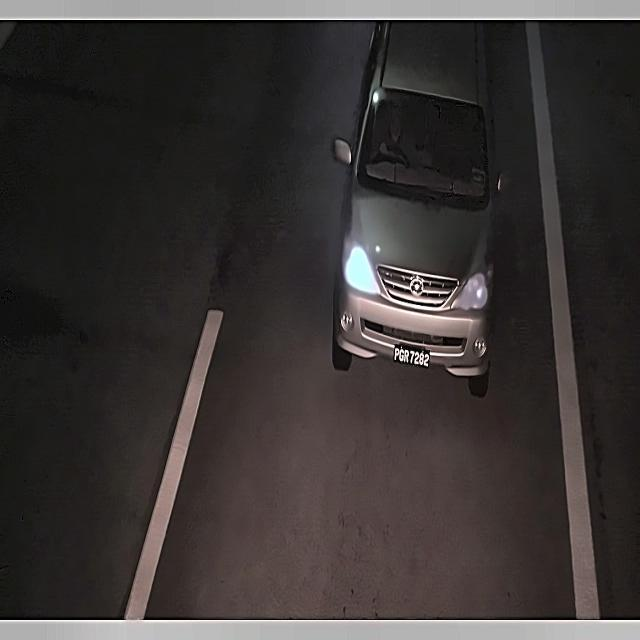car: (386, 330, 438, 379)
